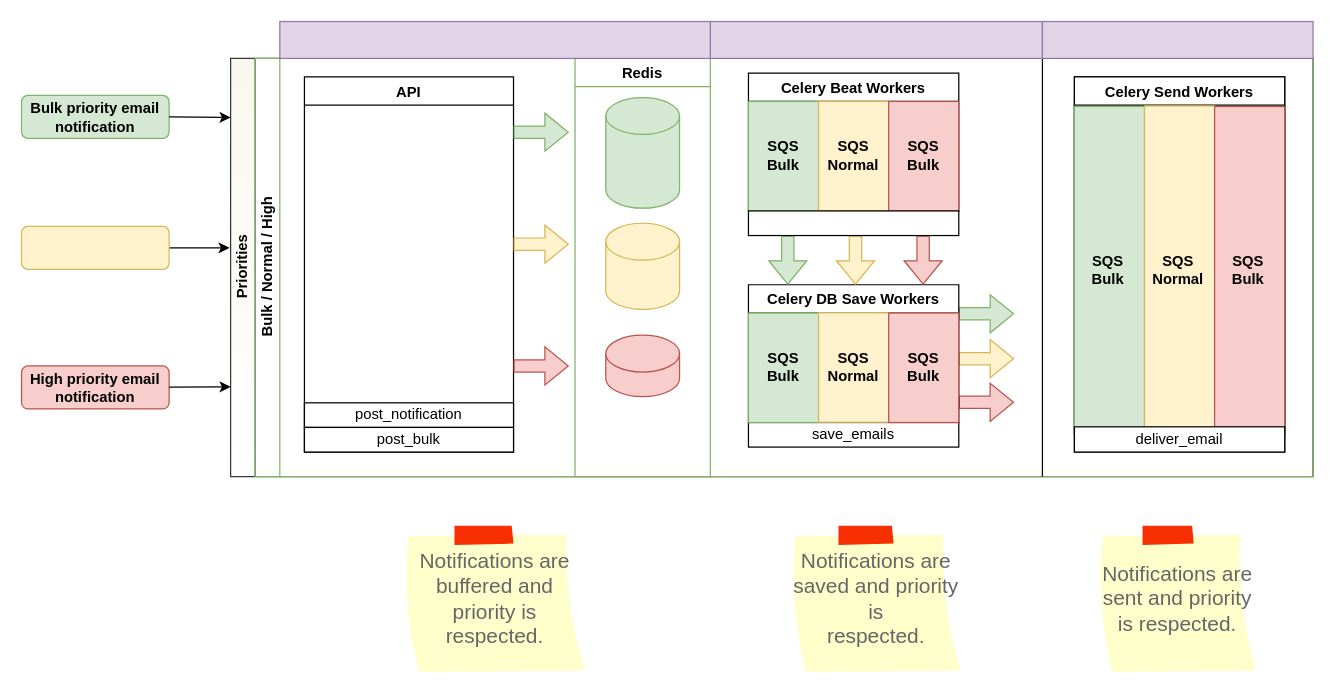
Image size: 1335x695. Some labels were removed from this diagram. Each missing label, with the centre of its shape:
beat_inbox_email_*: [853,223]
Buffer email notifications: [494,39]
Bulk: [642,152]
High: [642,365]
Normal: [642,265]
Normal priority email notification: [94,247]
Save email notifications: [875,39]
Send email notifications: [1177,39]
